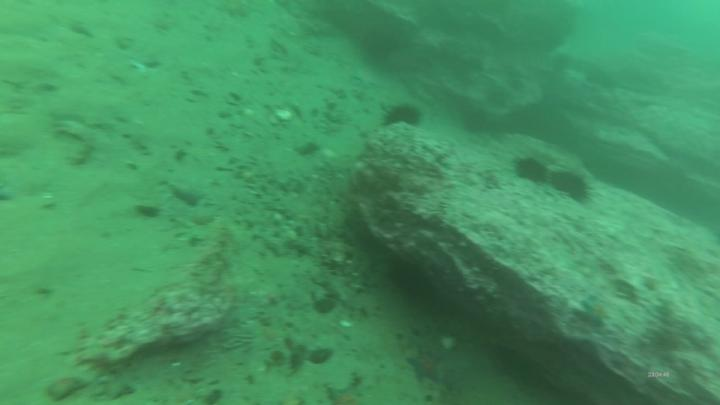echinus: (553, 171, 587, 198), (385, 105, 419, 126), (518, 158, 546, 182)
starfish: (409, 346, 438, 382)
